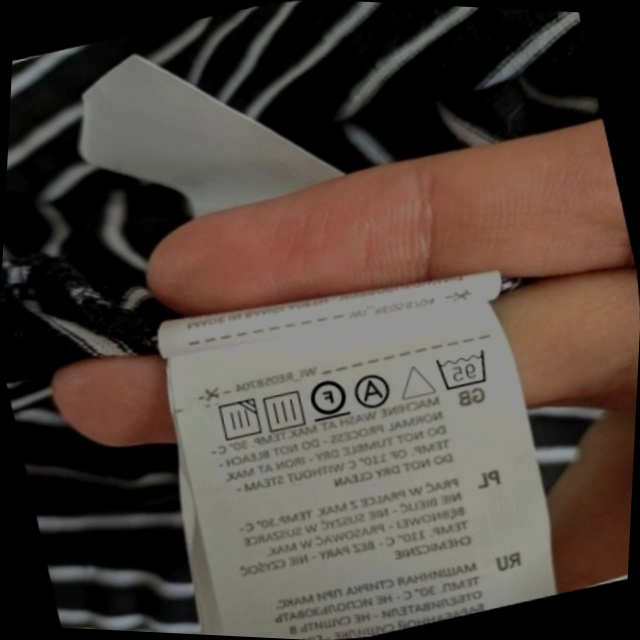95C: (429, 342, 496, 397)
bleach: (393, 355, 439, 406)
drip_dry: (256, 383, 312, 437)
drip_dry_in_shade: (209, 392, 266, 449)
dry_clean: (349, 367, 398, 414)
dry_clean_petrol_only: (302, 370, 354, 427)
